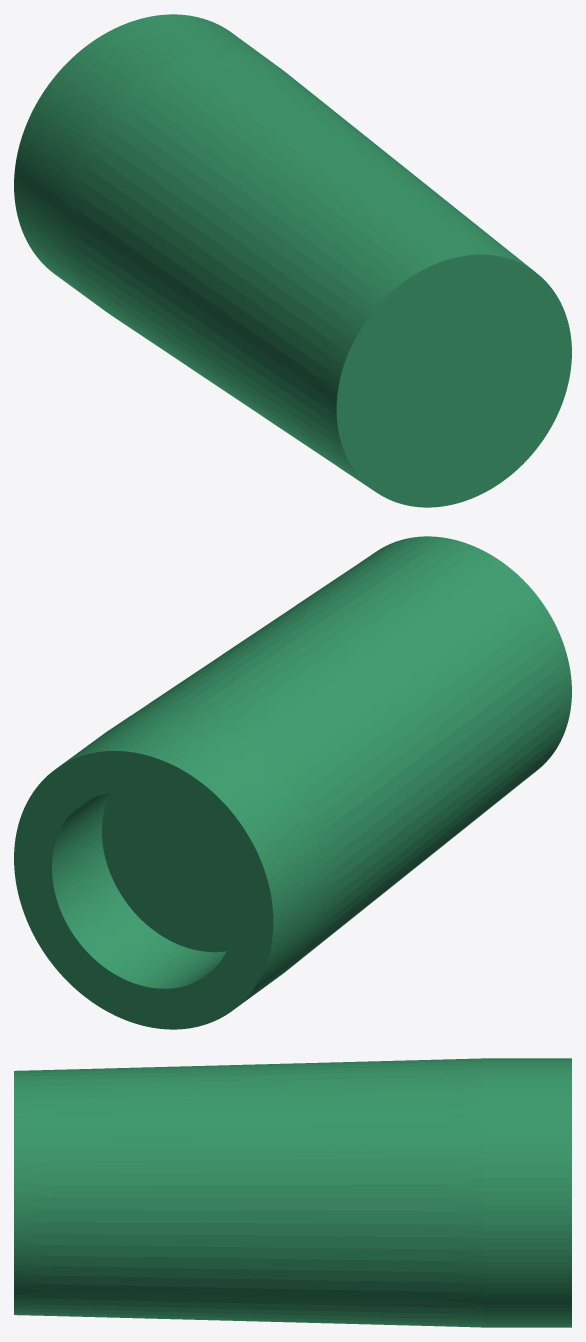
The picture shows the model from 3 angles, top to bottom: view 1: azimuth 30°, elevation 25°; view 2: azimuth 150°, elevation 25°; view 3: azimuth 270°, elevation 25°; orthographic projection. The views are drawn at different scales.
Visible parts, largest first — view 1: node; view 2: node; view 3: node.
Part boxes in pixels (bbox=[...]): node: bbox=[14, 14, 571, 507]; node: bbox=[14, 536, 571, 1029]; node: bbox=[14, 1058, 571, 1327].
Bounding box in the file's own units: 0.0575 × 0.0574 × 0.1192.
